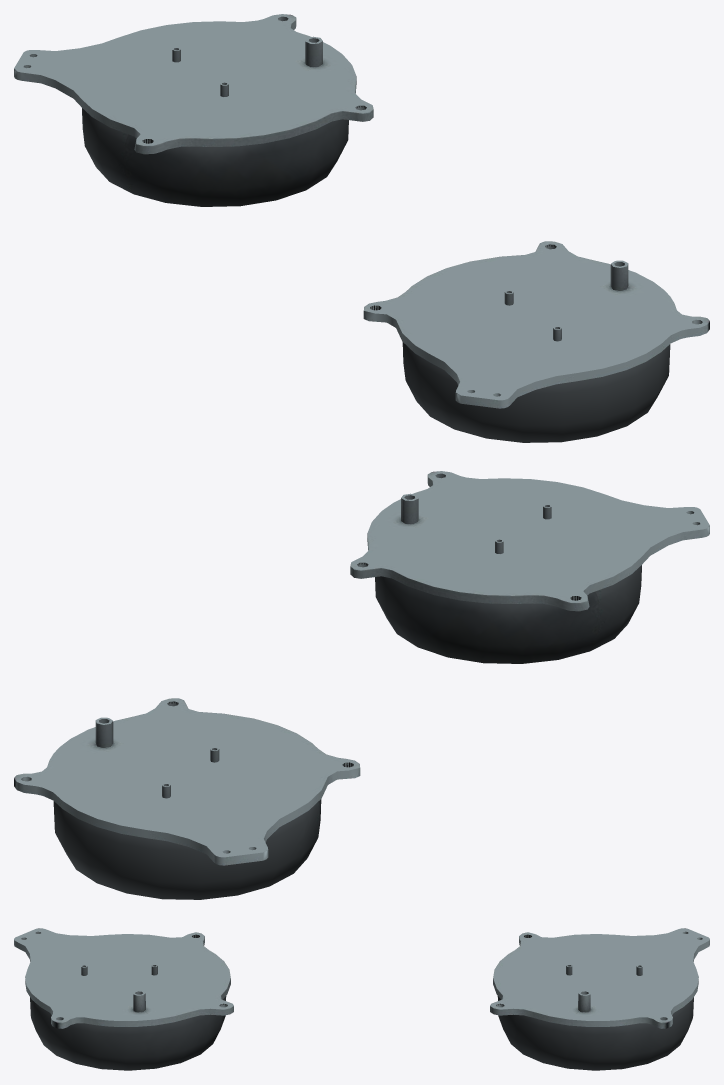
The model's file is kongqitanhuang.FBX.
3 renders of one model, top to bottom at view 1: azimuth 30°, elevation 25°; view 2: azimuth 150°, elevation 25°; view 3: azimuth 270°, elevation 25°, orthographic. The views are drawn at different scales.
Parts seen in each view (by area): view 1: ZXJ_dayuanqiu, Object080; view 2: Object080, ZXJ_dayuanqiu; view 3: Object080, ZXJ_dayuanqiu.
Boxes of the visible parts, left/top/right/bottom form: ZXJ_dayuanqiu: left=14, top=14, right=373, bottom=206; Object080: left=363, top=241, right=709, bottom=442; Object080: left=350, top=471, right=709, bottom=663; ZXJ_dayuanqiu: left=14, top=698, right=360, bottom=899; Object080: left=14, top=928, right=233, bottom=1070; ZXJ_dayuanqiu: left=490, top=928, right=709, bottom=1070.
Bounding box in the file's own units: 0.8184 × 0.3264 × 2.55.
